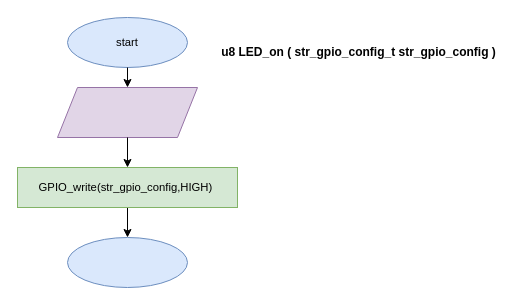
The diagram is 512 pixels wide and 305 high, and some of its shapes have lost their labels. The shapes that lost their labels are listed below. From the top down, each one's centre as x and y in pixels, then its label:
At (127,112): "str_gpio_config, value".
At (127,262): "end".
